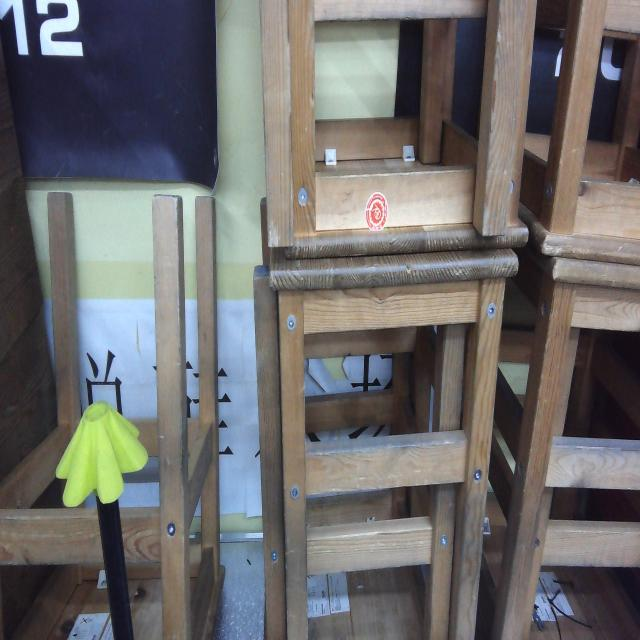Yellow-Stake-Head: (55, 399, 149, 508)
